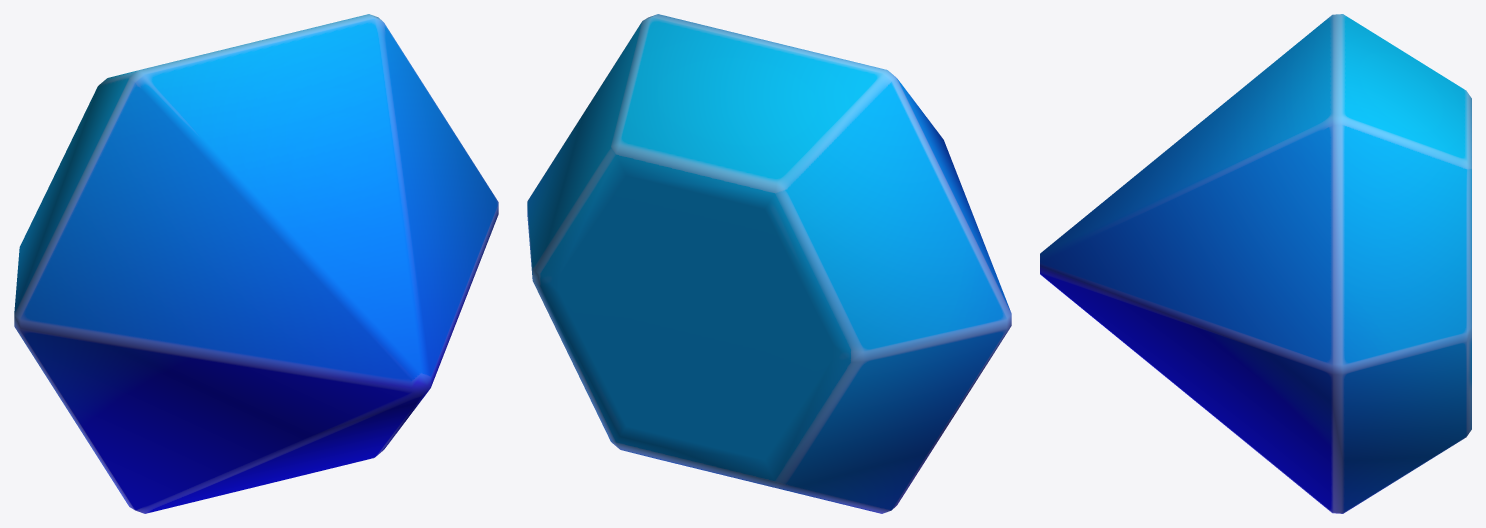
File: Diamond2.FBX
3 renders of one model, left to right at view 1: azimuth 30°, elevation 25°; view 2: azimuth 150°, elevation 25°; view 3: azimuth 270°, elevation 25°, orthographic. The views are drawn at different scales.
Parts seen in each view (by area): view 1: Diamond2; view 2: Diamond2; view 3: Diamond2.
Boxes of the visible parts, bbox=[...] form: Diamond2: bbox=[14, 14, 498, 513]; Diamond2: bbox=[527, 14, 1011, 513]; Diamond2: bbox=[1040, 14, 1471, 513].
Bounding box in the file's own units: 31.97 × 28.04 × 27.56.
1 material, 1 textured.
